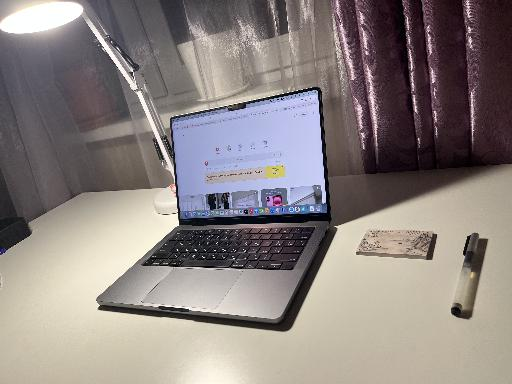yandex: (173, 108, 326, 211)
